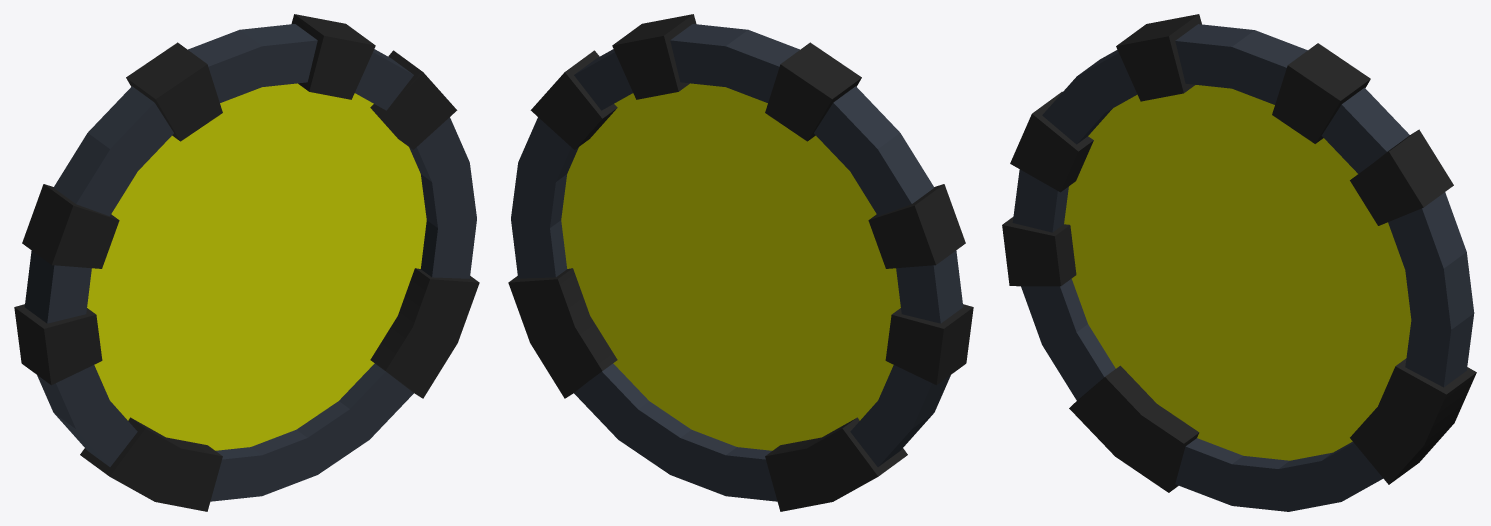
File: TutorialStartRingQuadrupleGG.fbx
The picture shows the model from 3 angles, left to right: view 1: azimuth 30°, elevation 25°; view 2: azimuth 150°, elevation 25°; view 3: azimuth 330°, elevation 25°; orthographic projection. The views are drawn at different scales.
Visible parts, largest first — view 1: Plane; view 2: Plane; view 3: Plane.
Part boxes in pixels (left/top/right/bottom): Plane: left=14, top=14, right=479, bottom=511; Plane: left=508, top=14, right=973, bottom=511; Plane: left=1002, top=14, right=1476, bottom=511.
Size of the model in its own units: 22.35 by 2.7 by 22.
